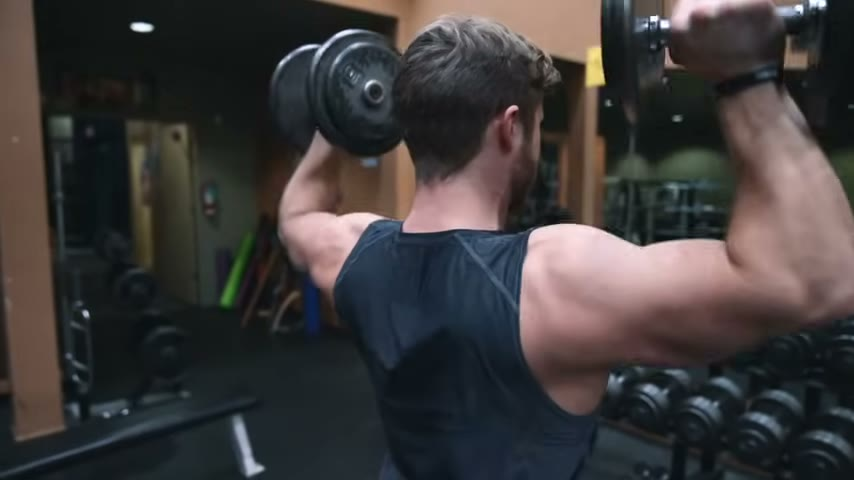barbell_plate_side: (264, 21, 318, 161)
